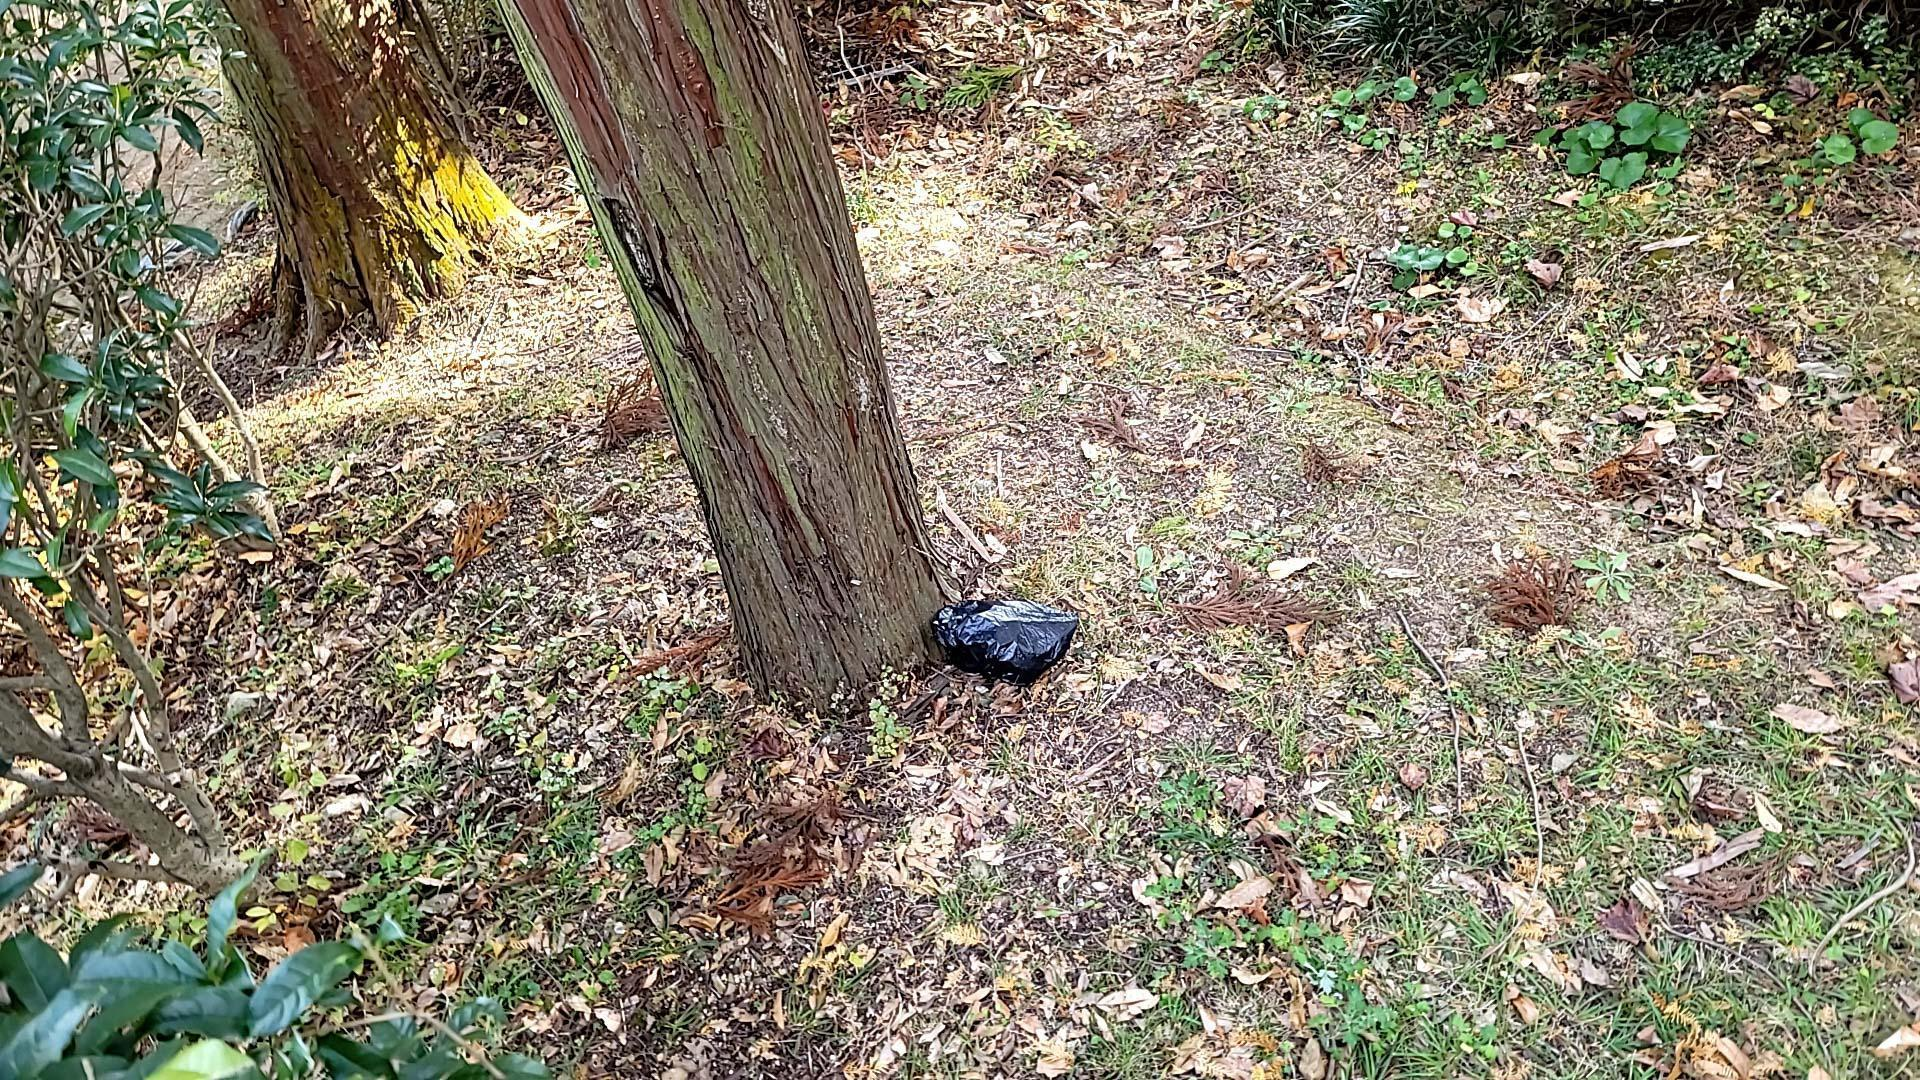black_bag: (922, 591, 1081, 687)
